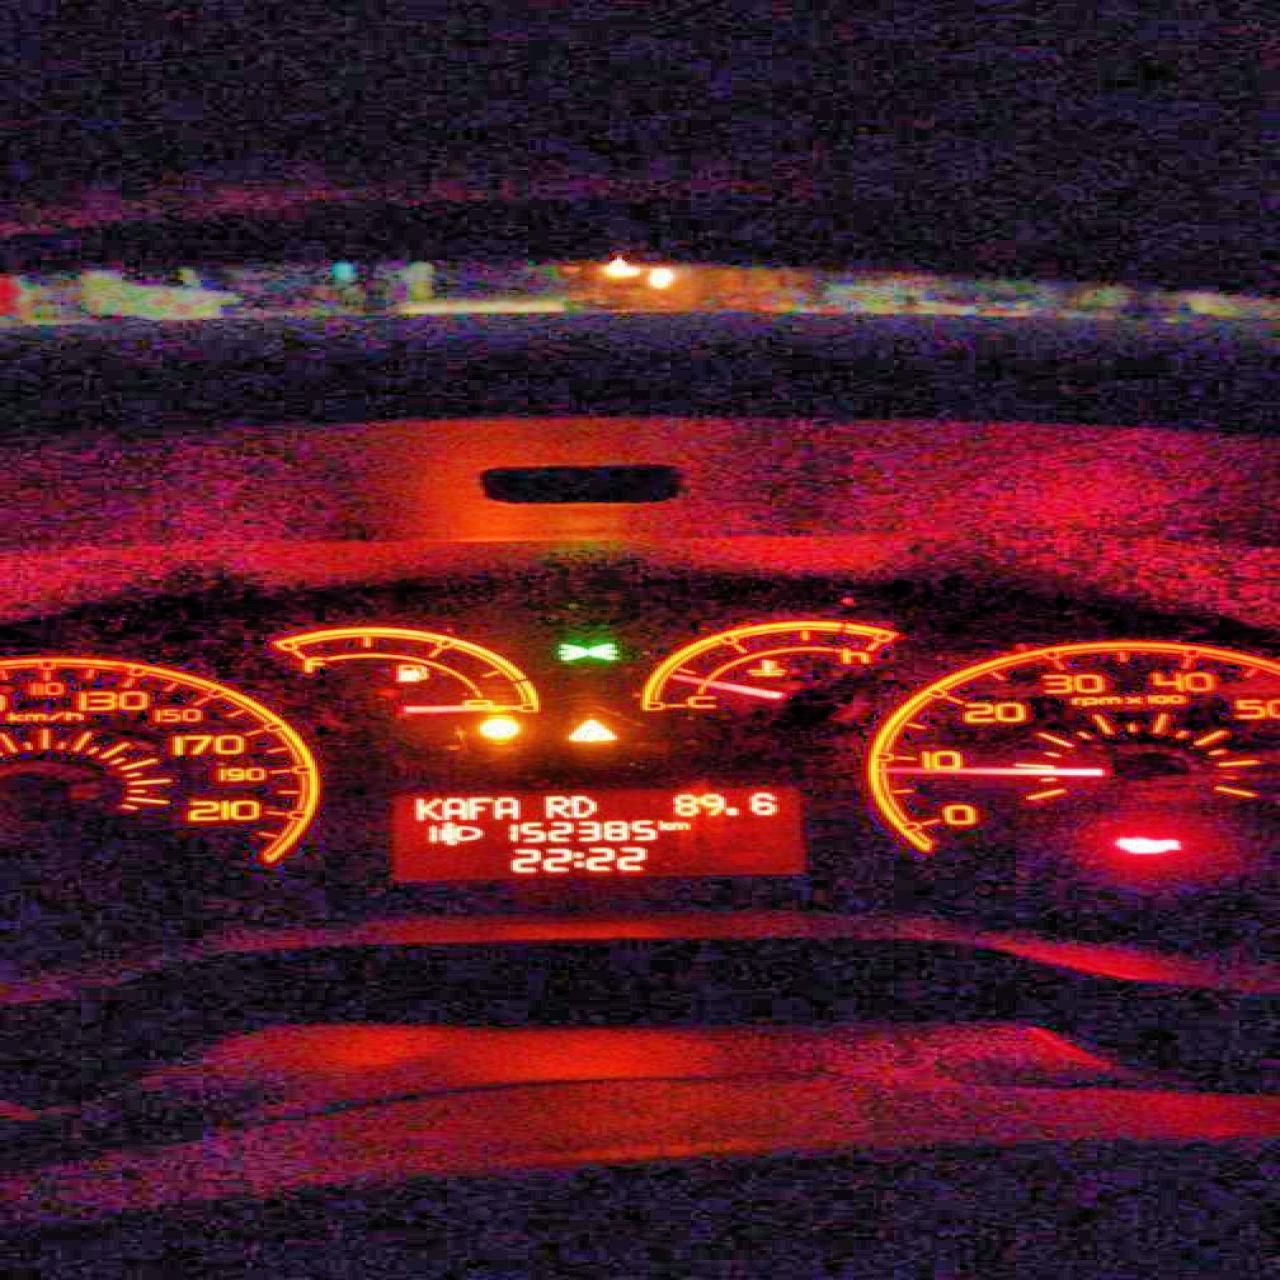-: (724, 805, 738, 816)
1: (505, 822, 518, 844), (424, 823, 434, 846)
2: (508, 846, 538, 871), (614, 845, 645, 870), (542, 846, 568, 871), (587, 845, 612, 871), (546, 821, 568, 840)
3: (577, 821, 599, 840)
5: (518, 819, 544, 843), (629, 819, 653, 840)
6: (744, 790, 779, 815)
8: (670, 792, 696, 817), (601, 819, 627, 840)
9: (699, 791, 722, 815)
X: (411, 794, 440, 822), (492, 794, 520, 821), (543, 792, 568, 819), (568, 794, 599, 815), (440, 798, 464, 821), (468, 796, 488, 821), (572, 847, 584, 871), (668, 821, 688, 830), (653, 818, 666, 830)
odometer: (386, 787, 810, 880)
